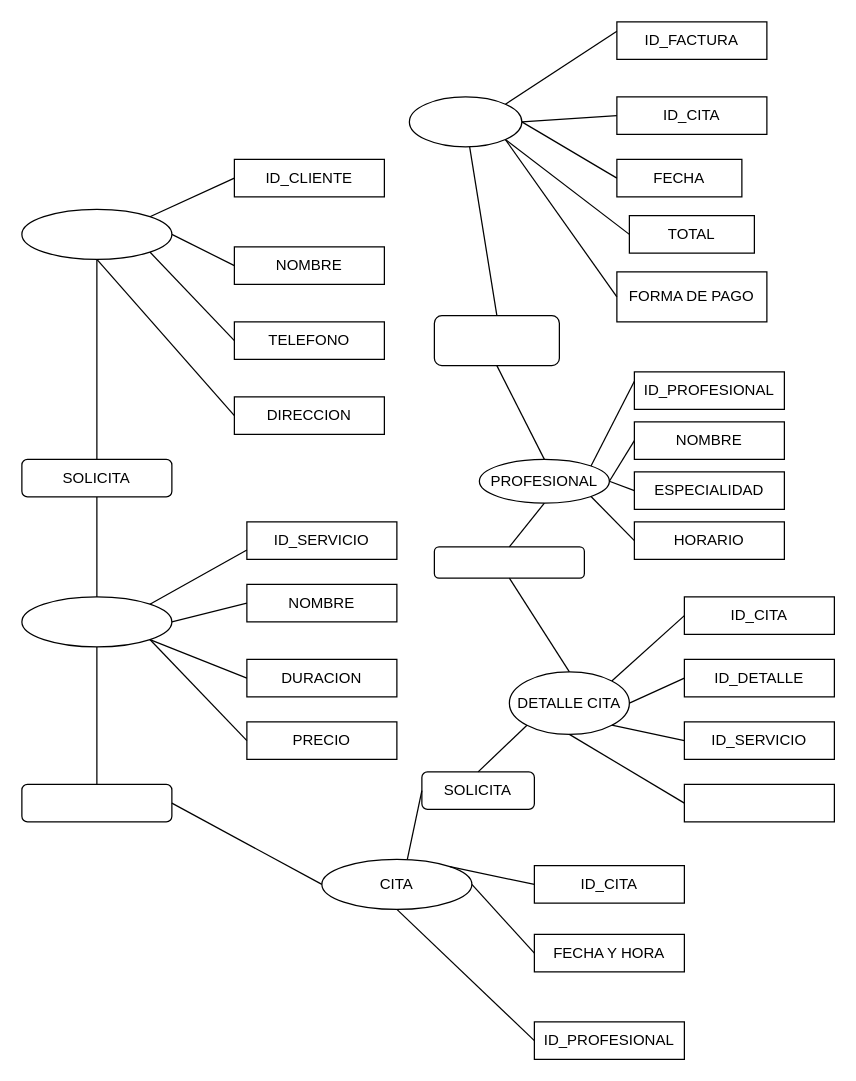
This 856x1081 diagram has some shape labels left out. The shapes that lost their labels are listed below. From the top down, each one's centre as x and y in pixels, then its label:
At [465,121]: "FACTURA".
At [96,233]: "CLIENTE".
At [496,340]: "PAGO".
At [508,562]: "CON PROFESIONAL".
At [96,621]: "SERVICIO".
At [96,802]: "CON".
At [758,802]: "OBSERVACIONES".
